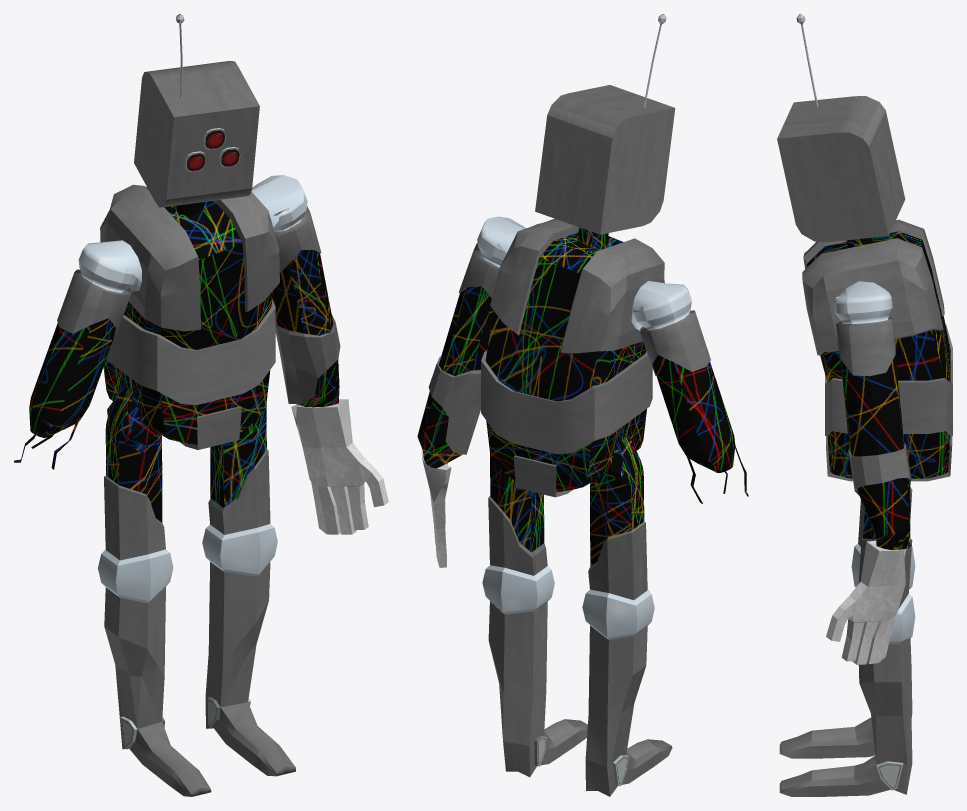
Rendered from RobotIdle4.obj.
3 views of the same model, side by side, from view 1: azimuth 30°, elevation 25°; view 2: azimuth 150°, elevation 25°; view 3: azimuth 270°, elevation 25° (orthographic). The views are drawn at different scales.
Visible parts, largest first — view 1: Robot; view 2: Robot; view 3: Robot.
Boxes of the visible parts, x1,y1,x2,y2 form: Robot: [14, 14, 388, 796]; Robot: [417, 14, 748, 796]; Robot: [777, 14, 952, 796].
Bounding box in the file's own units: 7.44 × 15.67 × 3.41.
